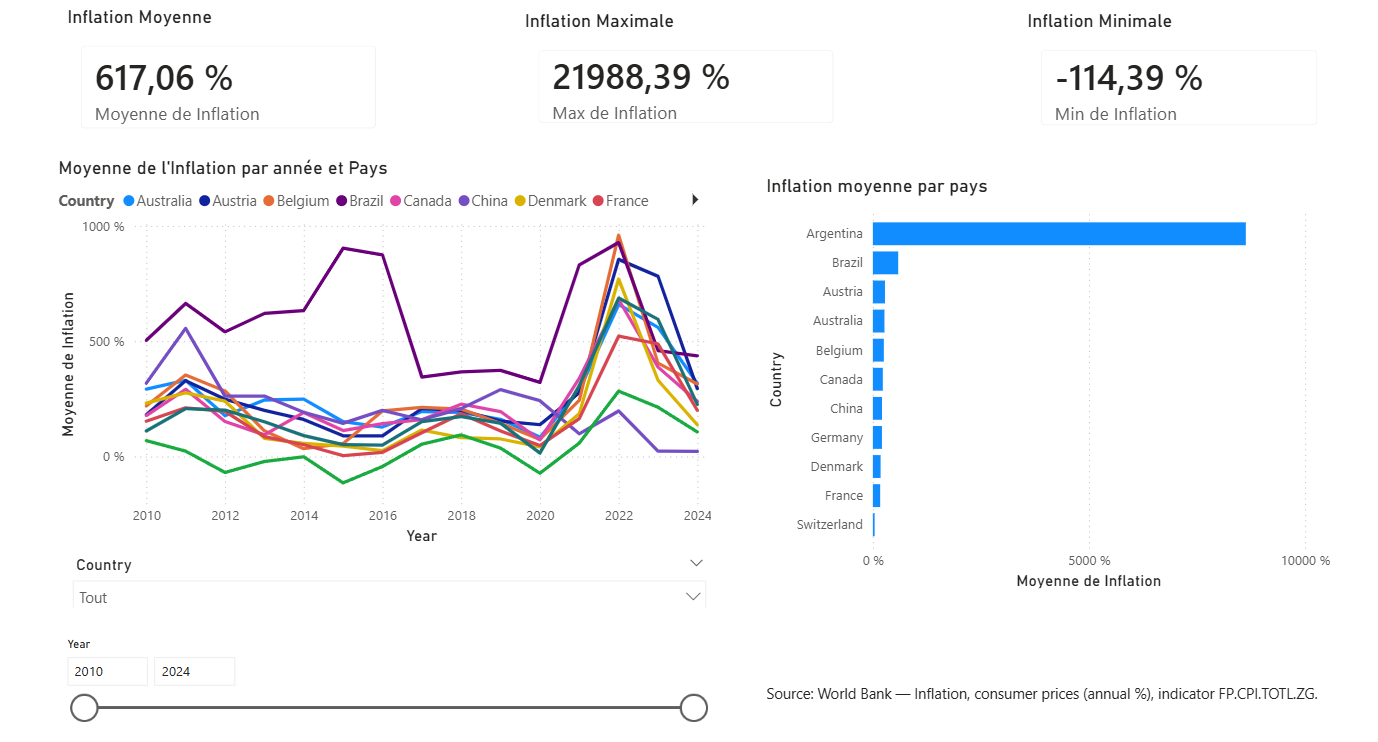

This screenshot's page, from the dashboard's own definition file:
{"tool":"powerbi","page":{"name":"Page 1","canvas":[1280,720],"ordinal":0},"visuals":[{"type":"lineChart","title":"Moyenne de l''Inflation par année et Pays","fields":{"Category":["API_FP CPI TOTL ZG_DS2_en_csv_v2_115367.Year"],"Y":["Avg(API_FP CPI TOTL ZG_DS2_en_csv_v2_115367.Inflation)"],"Series":["API_FP CPI TOTL ZG_DS2_en_csv_v2_115367.Country"]},"box":[60.6,151.4,607.2,358.9],"z":0},{"type":"slicer","fields":{"Values":["API_FP CPI TOTL ZG_DS2_en_csv_v2_115367.Country"]},"box":[68.1,510.3,599.6,53],"z":1000},{"type":"cardVisual","title":"Inflation Moyenne","fields":{"Data":["Avg(API_FP CPI TOTL ZG_DS2_en_csv_v2_115367.Inflation)"]},"box":[68.1,12.1,304.4,130.2],"z":2000},{"type":"cardVisual","title":"Inflation Maximale","fields":{"Data":["Max(API_FP CPI TOTL ZG_DS2_en_csv_v2_115367.Inflation)"]},"box":[487.6,16.7,304.4,121.1],"z":3000},{"type":"cardVisual","title":"Inflation Minimale","fields":{"Data":["Min(API_FP CPI TOTL ZG_DS2_en_csv_v2_115367.Inflation)"]},"box":[946.4,16.7,287.7,122.7],"z":4000},{"type":"clusteredBarChart","title":"Inflation moyenne par pays","fields":{"Y":["Avg(API_FP CPI TOTL ZG_DS2_en_csv_v2_115367.Inflation)"],"Category":["API_FP CPI TOTL ZG_DS2_en_csv_v2_115367.Country"]},"box":[708.6,168.1,525.4,383.1],"z":5000},{"type":"slicer","fields":{"Values":["API_FP CPI TOTL ZG_DS2_en_csv_v2_115367.Year"]},"box":[60.6,584.5,607.2,92.4],"z":6000},{"type":"textbox","box":[709.5,671.1,570.9,49.4],"z":7000}]}

Visuals, with their boxes on the page's 1280x720 design canvas (x1, y1, x2, y2). These are canvas units, not pixel positions in the 1378x742 screenshot, which may show the page scaled, cropped or inside an application window:
"Moyenne de l''Inflation par année et Pays" lineChart: 61 151 668 510
slicer - API_FP CPI TOTL ZG_DS2_en_csv_v2_115367.Country: 68 510 668 563
"Inflation Moyenne" cardVisual: 68 12 372 142
"Inflation Maximale" cardVisual: 488 17 792 138
"Inflation Minimale" cardVisual: 946 17 1234 139
"Inflation moyenne par pays" clusteredBarChart: 709 168 1234 551
slicer - API_FP CPI TOTL ZG_DS2_en_csv_v2_115367.Year: 61 584 668 677
textbox: 710 671 1280 720
